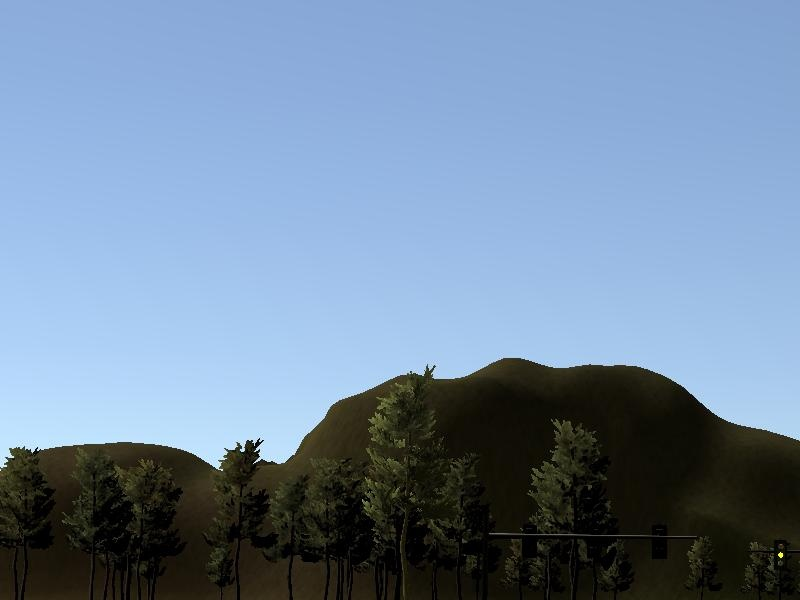YELLOW: (772, 538, 789, 570)
